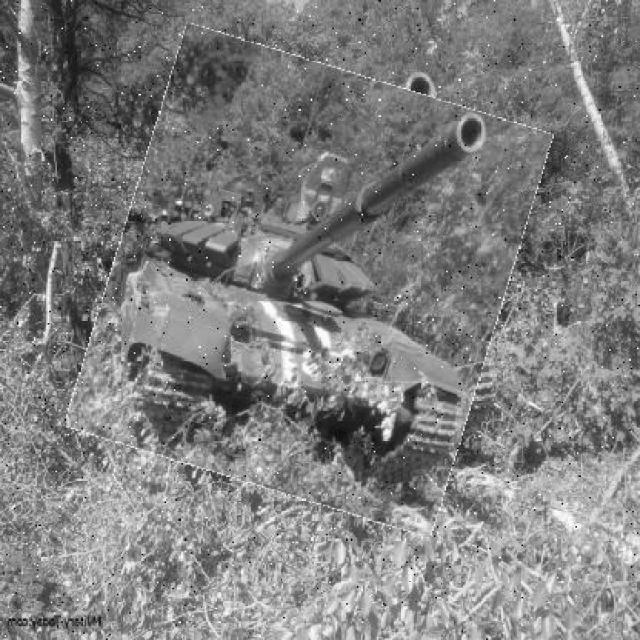Tank: (92, 47, 527, 515)
